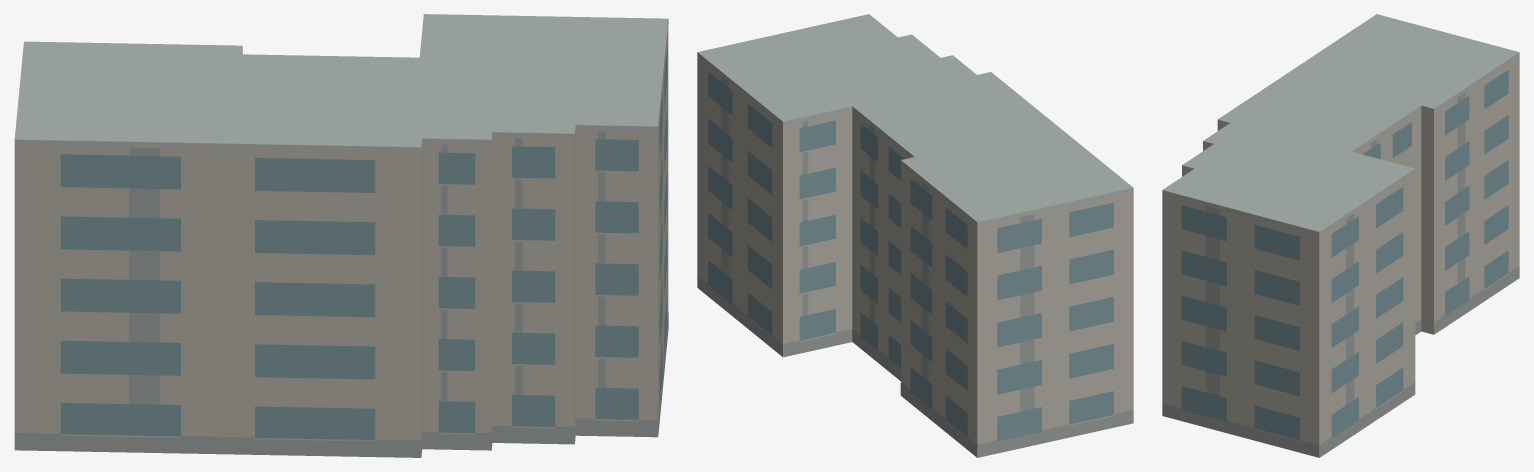
File: survey-upis-32622810.glb
The picture shows the model from 3 angles, left to right: view 1: azimuth 30°, elevation 25°; view 2: azimuth 150°, elevation 25°; view 3: azimuth 270°, elevation 25°; orthographic projection. The views are drawn at different scales.
Visible parts, largest first — view 1: survey-upis-32622810.tmp; view 2: survey-upis-32622810.tmp; view 3: survey-upis-32622810.tmp.
Boxes of the visible parts, x1=… form: survey-upis-32622810.tmp: x1=14, y1=14, x2=668, y2=457; survey-upis-32622810.tmp: x1=697, y1=14, x2=1133, y2=457; survey-upis-32622810.tmp: x1=1162, y1=14, x2=1519, y2=457.
Bounding box in the file's own units: 27.54 × 13.3 × 19.07.
